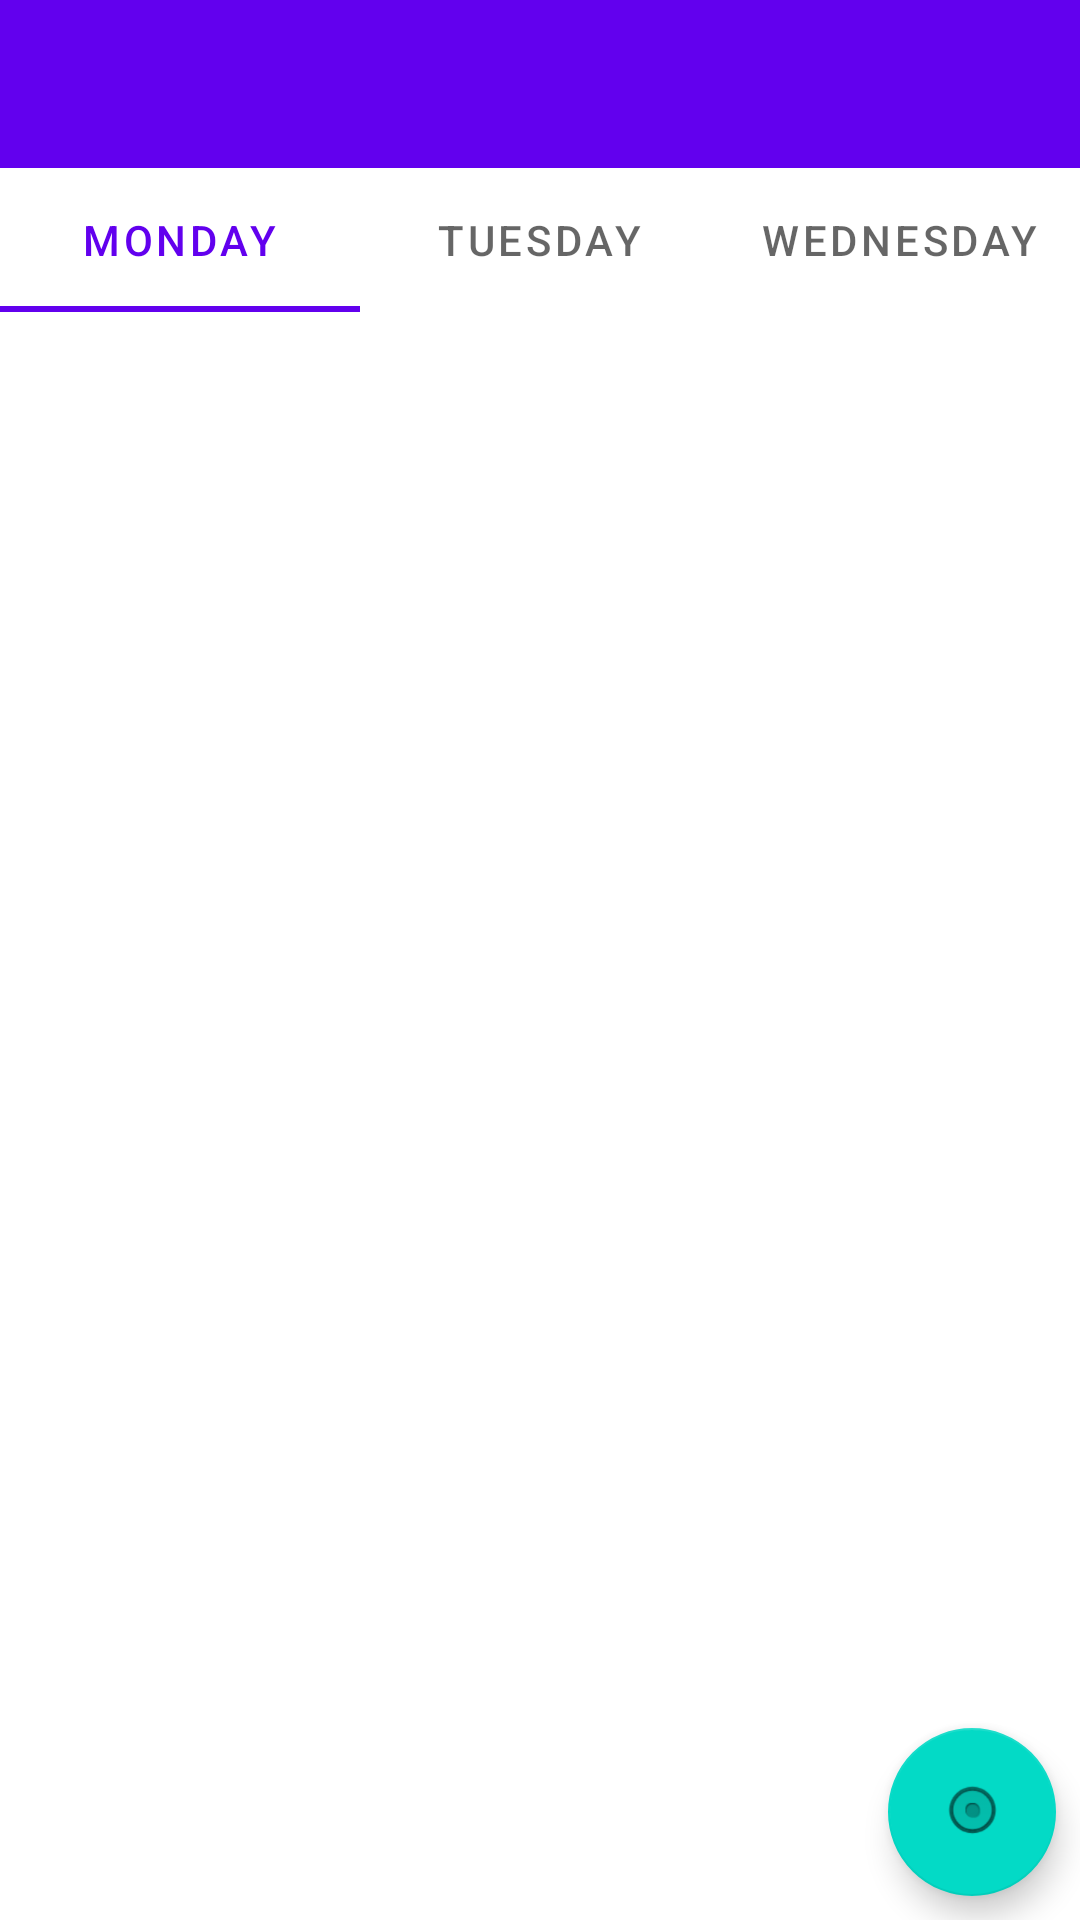

Icons on this 1080x1920 Android screen, each with its box as (left=x1, top=y1, right=x2, bottom=y2):
radio: (left=888, top=1728, right=1056, bottom=1896)
